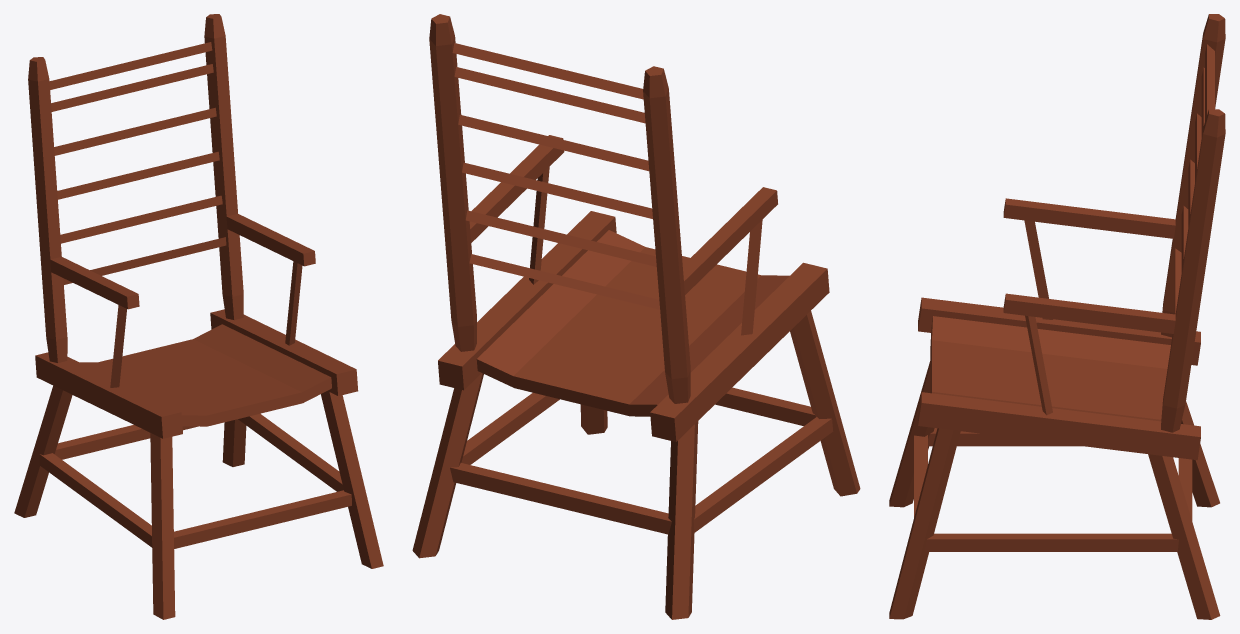
The model's file is misc_chair01.obj.
3 views of the same model, side by side, from view 1: azimuth 30°, elevation 25°; view 2: azimuth 150°, elevation 25°; view 3: azimuth 270°, elevation 25° (orthographic). The views are drawn at different scales.
Parts seen in each view (by area): view 1: misc_chair01; view 2: misc_chair01; view 3: misc_chair01.
Part boxes in pixels (x1=…): misc_chair01: x1=14, y1=14, x2=383, y2=619; misc_chair01: x1=412, y1=14, x2=860, y2=619; misc_chair01: x1=889, y1=14, x2=1225, y2=619.
Size of the model in its own units: 1.13 by 2.13 by 1.31.
